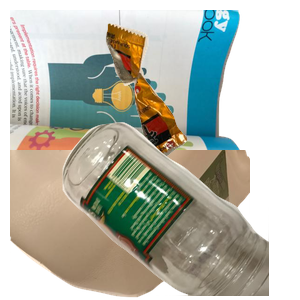glass: (60, 120, 300, 300)
paper: (10, 10, 250, 190)
plastic: (10, 150, 250, 300)
trash: (103, 21, 300, 174)
